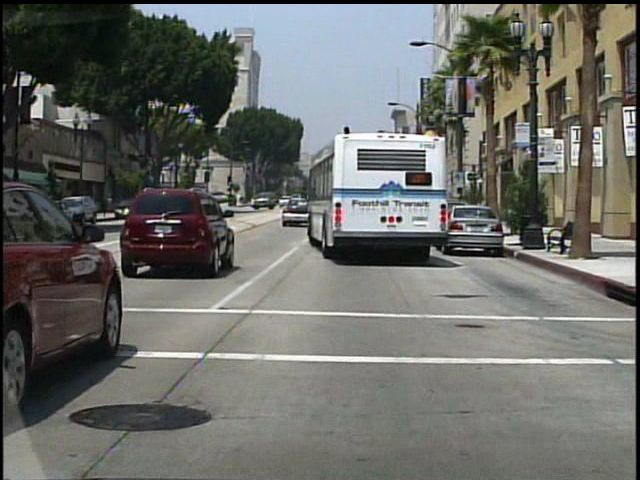person: (458, 187, 471, 228)
